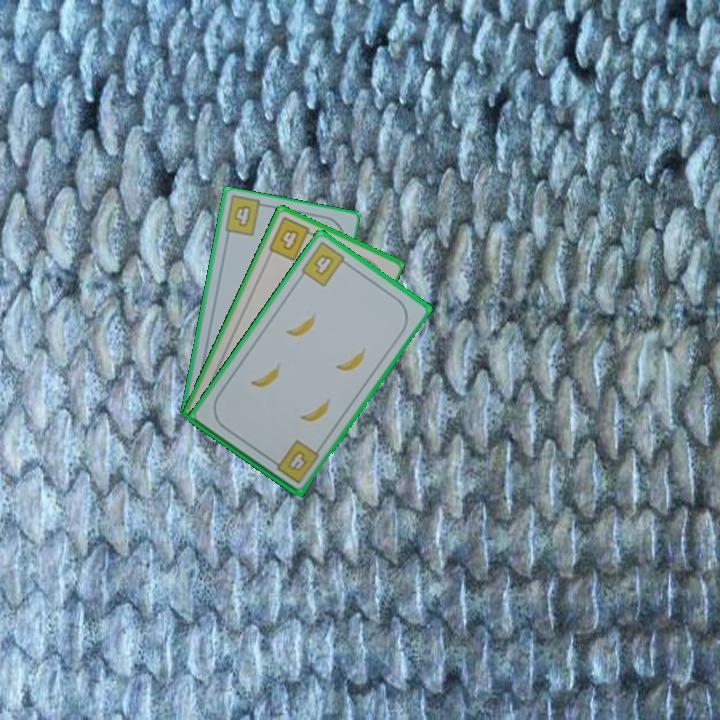4b: (297, 238, 353, 290), (267, 436, 322, 486), (265, 213, 318, 264), (230, 201, 253, 229)
